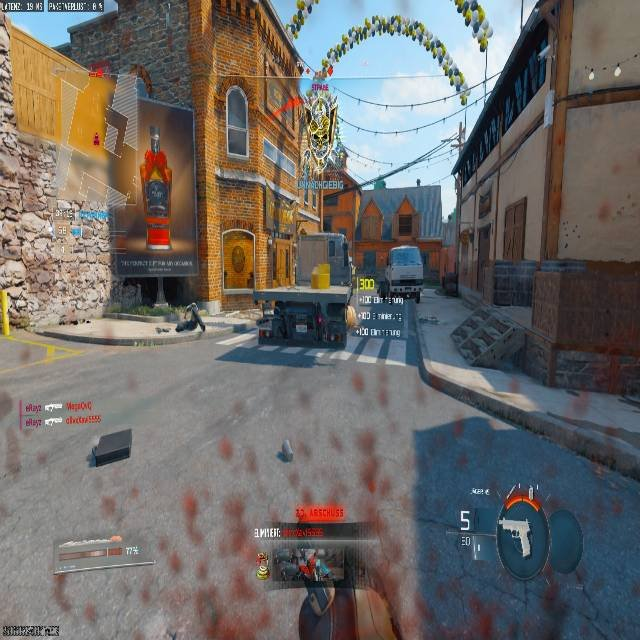player: (258, 541, 340, 640), (448, 0, 494, 51)
